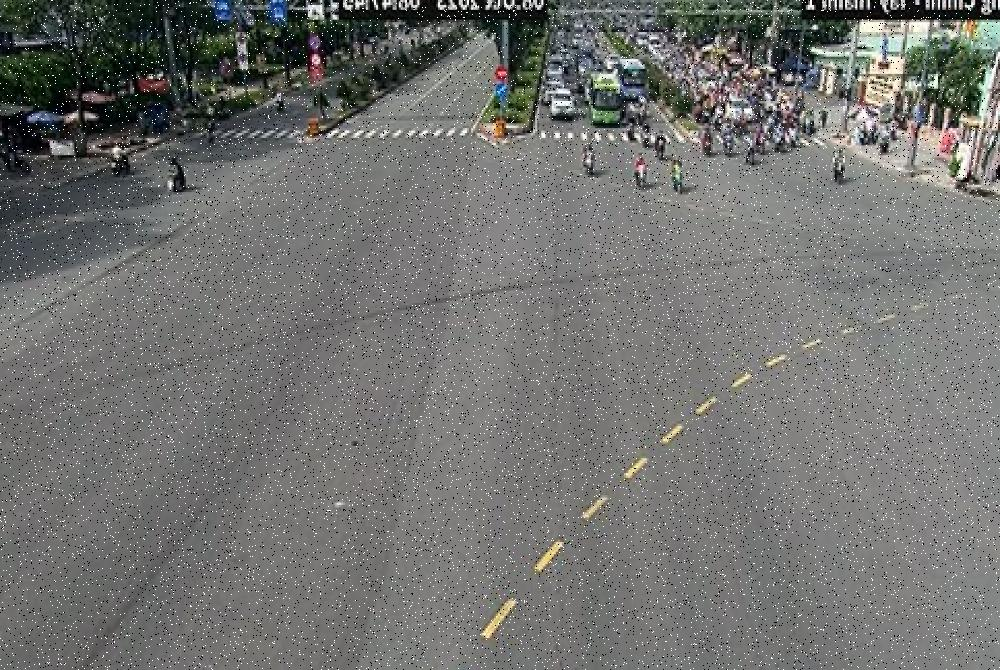bus: (590, 73, 618, 132), (617, 62, 650, 103)
car: (724, 97, 752, 123), (540, 76, 566, 104), (546, 53, 574, 77), (548, 94, 574, 119), (538, 63, 564, 87), (576, 56, 593, 77), (549, 42, 567, 60), (647, 34, 662, 55), (570, 34, 583, 48), (635, 27, 645, 45)
motorbike: (576, 138, 598, 183), (198, 104, 217, 154), (107, 140, 132, 177), (717, 123, 736, 169), (164, 155, 185, 193), (667, 151, 685, 195), (701, 122, 714, 168), (741, 133, 757, 170), (269, 84, 287, 112), (830, 153, 846, 184), (634, 155, 648, 188), (654, 125, 666, 163), (637, 118, 650, 151), (805, 106, 817, 139)
